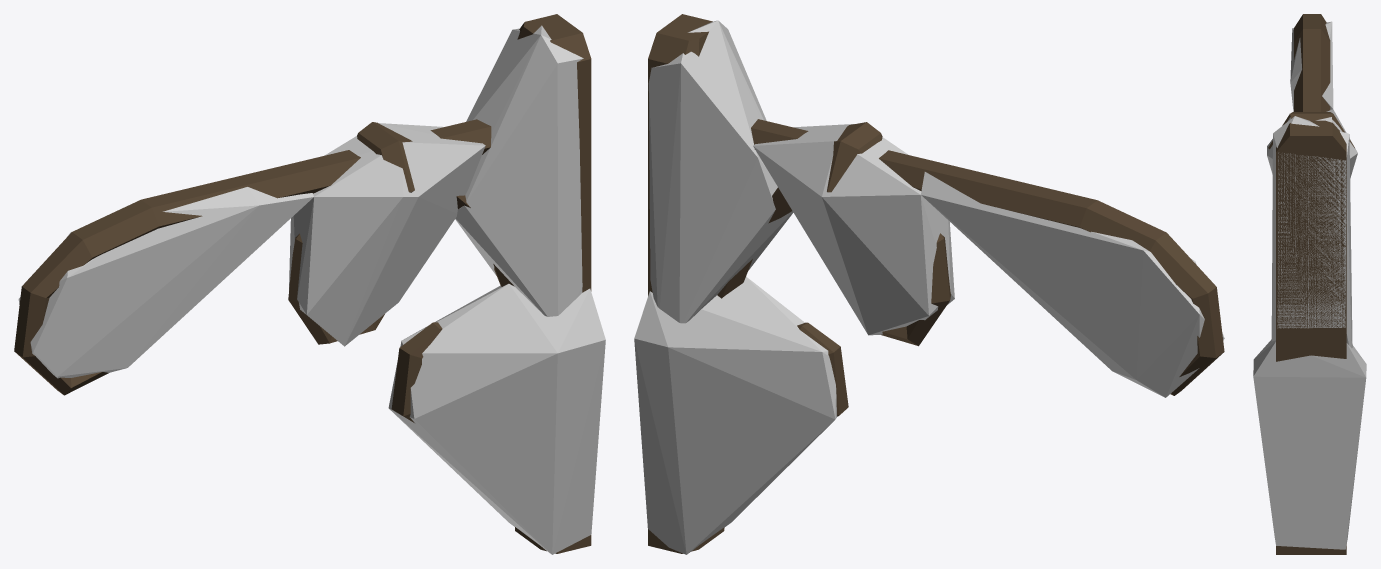
File: SM_Prop_LanternHook_01.fbx
3 views of the same model, side by side, from view 1: azimuth 30°, elevation 25°; view 2: azimuth 150°, elevation 25°; view 3: azimuth 270°, elevation 25° (orthographic). The views are drawn at different scales.
Parts seen in each view (by area): view 1: SM_Prop_LanternHook_01_ConvexHulls, SM_Prop_LanternHook_01; view 2: SM_Prop_LanternHook_01_ConvexHulls, SM_Prop_LanternHook_01; view 3: SM_Prop_LanternHook_01_ConvexHulls, SM_Prop_LanternHook_01.
Boxes of the visible parts, x1,y1,x2,y2 form: SM_Prop_LanternHook_01_ConvexHulls: (18, 25, 605, 554); SM_Prop_LanternHook_01: (14, 14, 591, 553); SM_Prop_LanternHook_01_ConvexHulls: (634, 20, 1224, 554); SM_Prop_LanternHook_01: (648, 14, 1224, 553); SM_Prop_LanternHook_01_ConvexHulls: (1253, 21, 1366, 549); SM_Prop_LanternHook_01: (1268, 14, 1354, 554).
Size of the model in its own units: 44.89 by 9.63 by 39.69.
2 materials, 1 textured.
